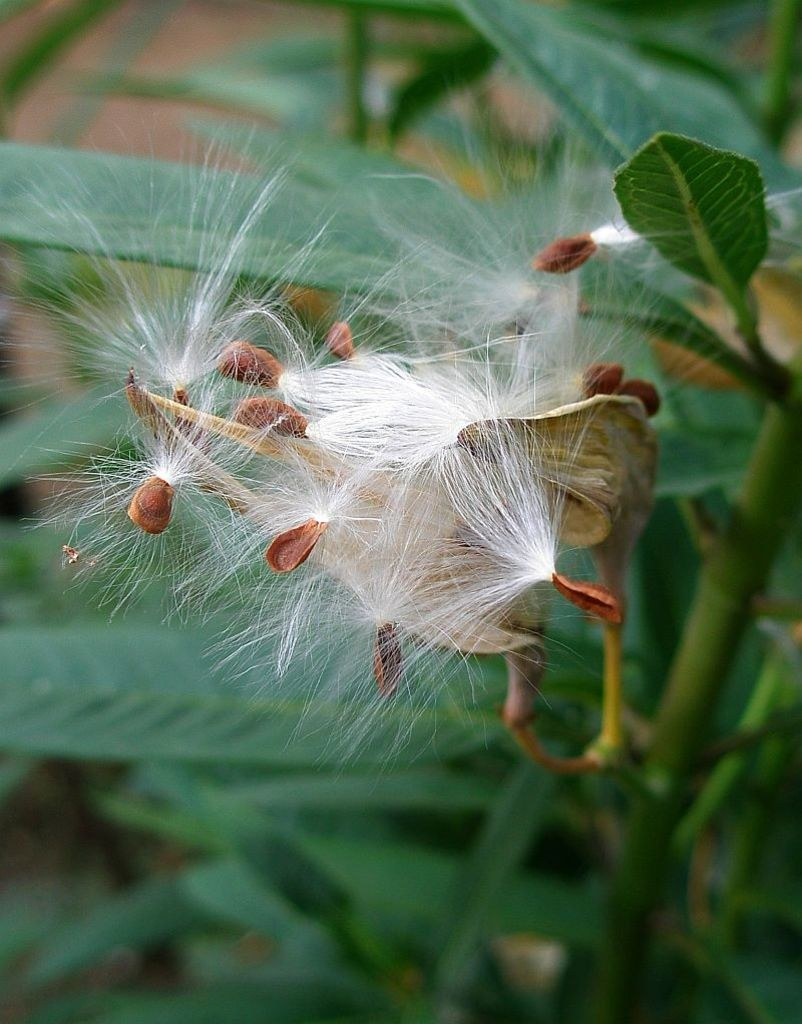insect: (31, 152, 724, 864)
